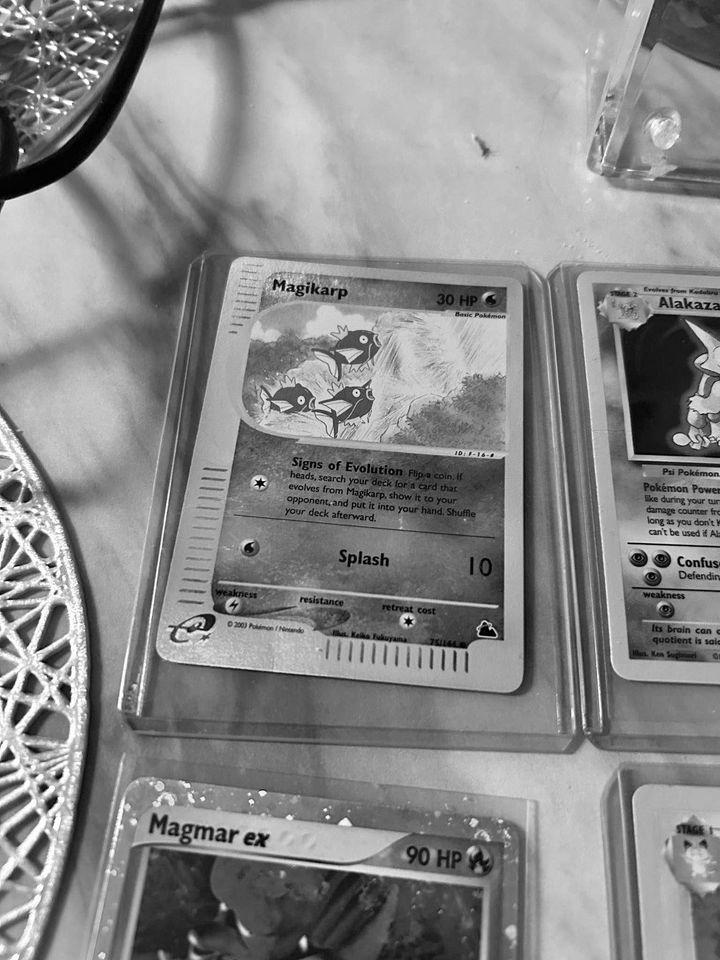card: (155, 254, 526, 697), (88, 772, 520, 960), (575, 269, 720, 688)
